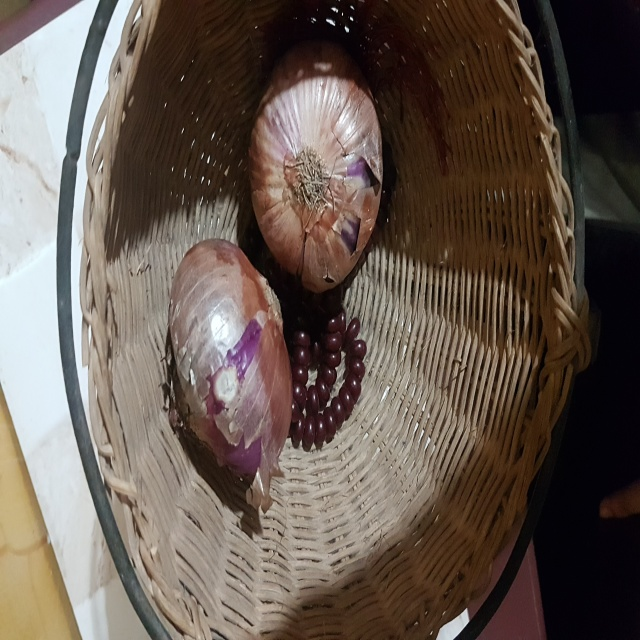onion: (248, 41, 387, 296), (167, 242, 297, 498)
